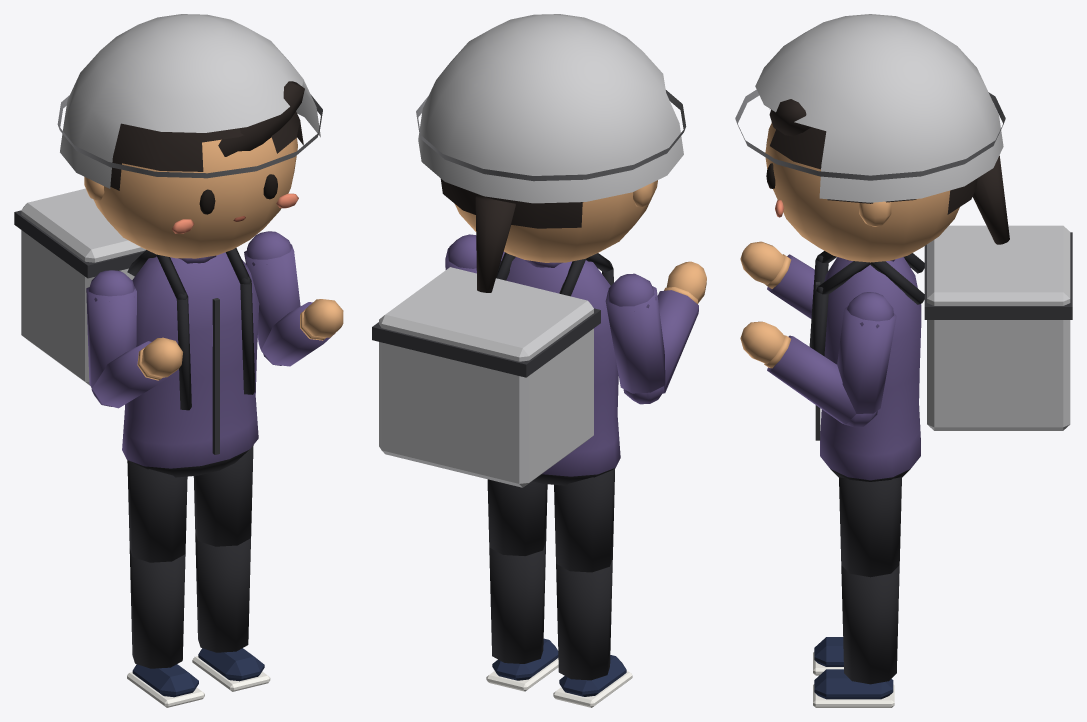
Rendered from era4_delivery_rider.glb.
3 renders of one model, left to right at view 1: azimuth 30°, elevation 25°; view 2: azimuth 150°, elevation 25°; view 3: azimuth 270°, elevation 25°, orthographic.
Parts seen in each view (by area): view 1: head, body, shin_L, shin_R, leg_R, leg_L, arm_R, arm_L, forearm_R, forearm_L; view 2: head, body, shin_R, shin_L, arm_R, leg_R, leg_L, forearm_R, arm_L; view 3: head, body, shin_L, leg_L, arm_L, forearm_L, forearm_R, shin_R.
Part boxes in pixels (x1,y1,x2,y2): head: (57, 14, 322, 258); body: (14, 188, 259, 477); shin_L: (192, 533, 270, 691); shin_R: (127, 548, 204, 707); leg_R: (127, 460, 187, 562); leg_L: (193, 445, 253, 546); arm_R: (86, 270, 136, 406); arm_L: (244, 231, 300, 365); forearm_R: (91, 337, 182, 408); forearm_L: (261, 299, 343, 366); head: (416, 14, 686, 292); body: (372, 252, 620, 487); shin_R: (553, 557, 632, 707); shin_L: (486, 542, 558, 691); arm_R: (605, 273, 665, 404); leg_R: (554, 468, 615, 572); leg_L: (487, 479, 547, 555); forearm_R: (625, 261, 706, 402); arm_L: (445, 234, 476, 273); head: (735, 14, 1009, 262); body: (809, 225, 1072, 481); shin_L: (813, 565, 899, 707); leg_L: (839, 477, 901, 577); arm_L: (837, 292, 896, 427); forearm_L: (740, 321, 876, 425); forearm_R: (740, 241, 814, 318); shin_R: (813, 637, 843, 675).
Bounding box in the file's own units: 0.5661 × 1.52 × 0.7062.
